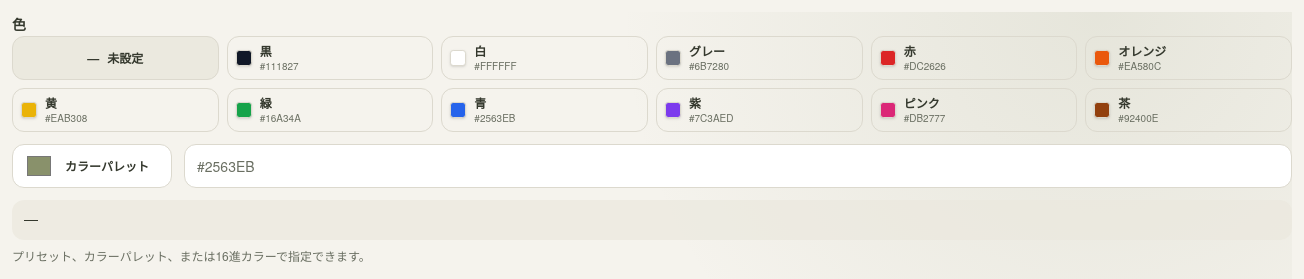
Test case: ItemColorField › shows invalid hexadecimal input before submission
The image size is (1304, 279).
Type "#12" into the field named "16進カラー" at (738, 166), box [184,144,1292,188]
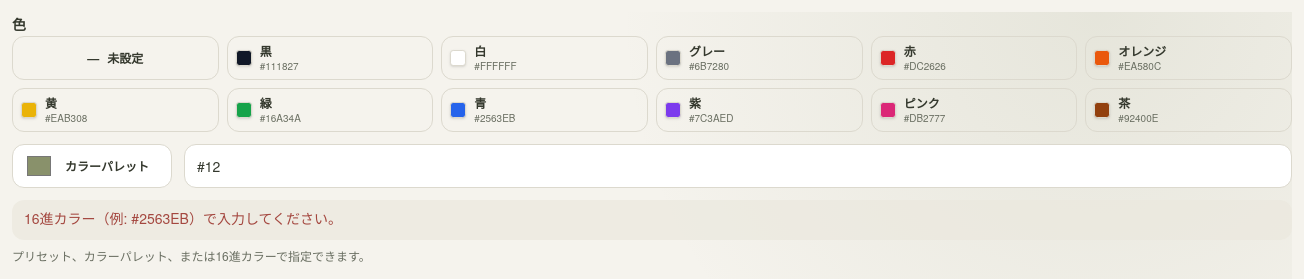
Expected: the text "16進カラー（例: #2563EB）で入力してください。" is shown, [24,208,342,228]
